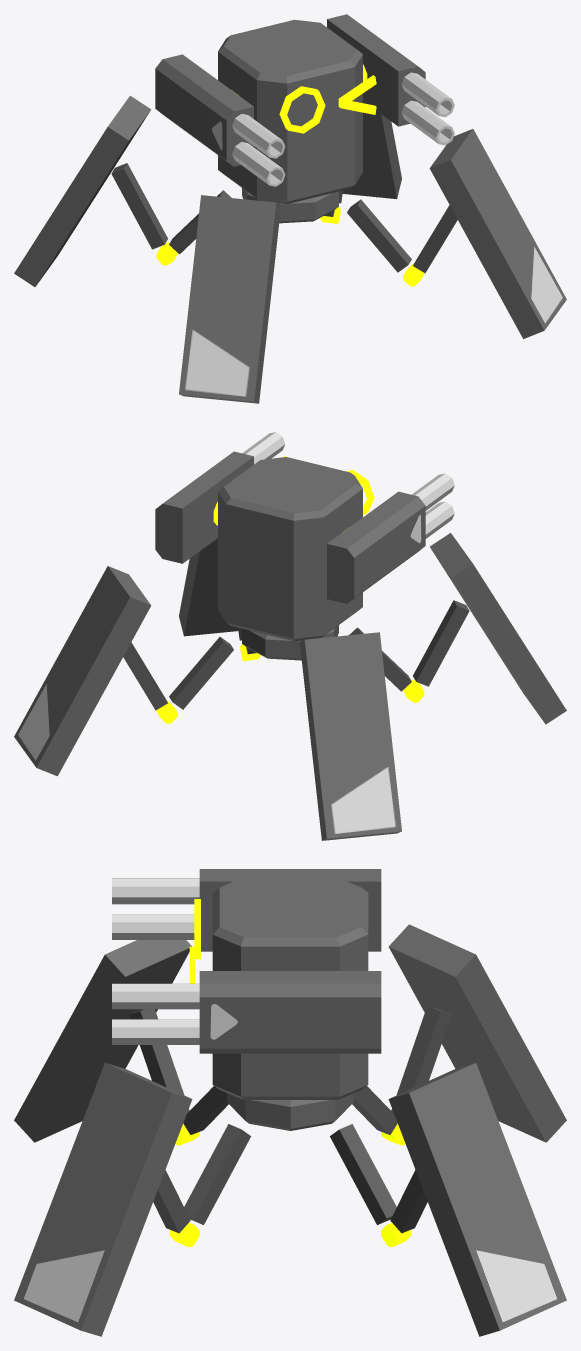
File: turel.fbx
The picture shows the model from 3 angles, top to bottom: view 1: azimuth 30°, elevation 25°; view 2: azimuth 150°, elevation 25°; view 3: azimuth 270°, elevation 25°; orthographic projection. The views are drawn at different scales.
Visible parts, largest first — view 1: turel, tower; view 2: turel, tower; view 3: turel, tower.
Part boxes in pixels (left/top/right/bottom): turel: left=14, top=95, right=566, bottom=403; tower: left=155, top=14, right=454, bottom=204; turel: left=14, top=533, right=566, bottom=840; tower: left=155, top=432, right=454, bottom=641; turel: left=14, top=924, right=566, bottom=1336; tower: left=112, top=869, right=381, bottom=1099.
Bounding box in the file's own units: 731 × 450 × 710.
